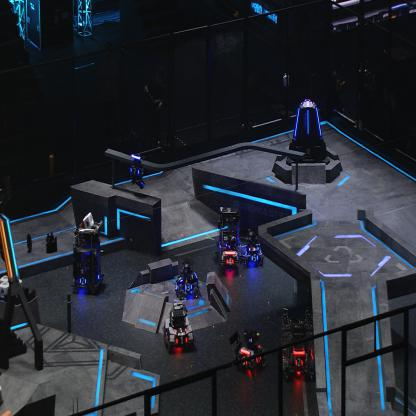car: (280, 309, 316, 381), (72, 222, 106, 293), (163, 301, 196, 353), (236, 326, 266, 375), (216, 205, 241, 257), (174, 256, 200, 300), (237, 227, 264, 267), (218, 234, 240, 275)
